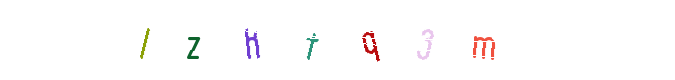1: (104, 0, 184, 80)
3: (348, 0, 428, 80)
K: (211, 0, 291, 80)
M: (436, 0, 516, 80)
Q: (331, 0, 411, 80)
T: (297, 0, 377, 80)
Z: (203, 0, 283, 80)
